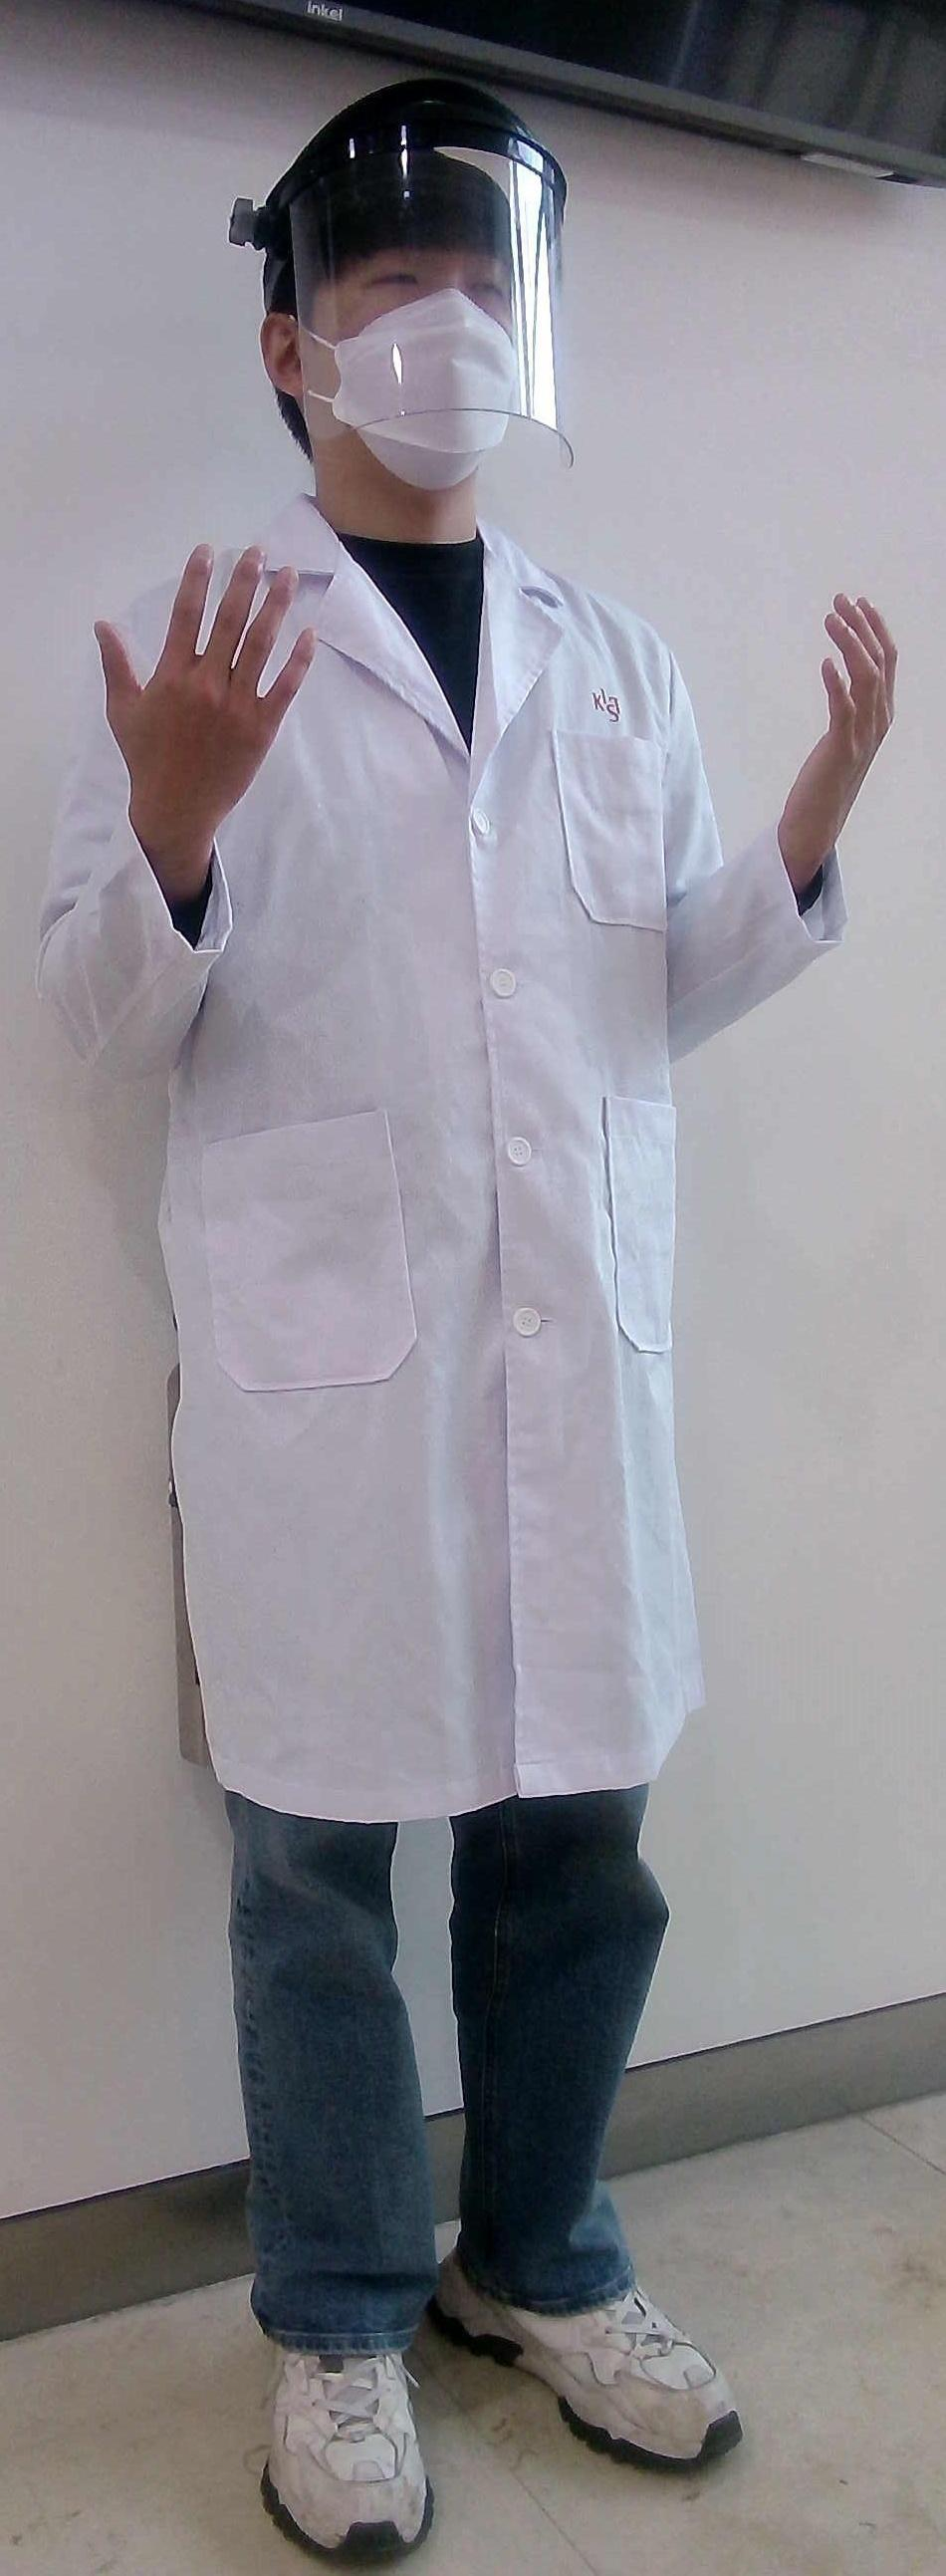lab_coat: (235, 605, 708, 1787)
